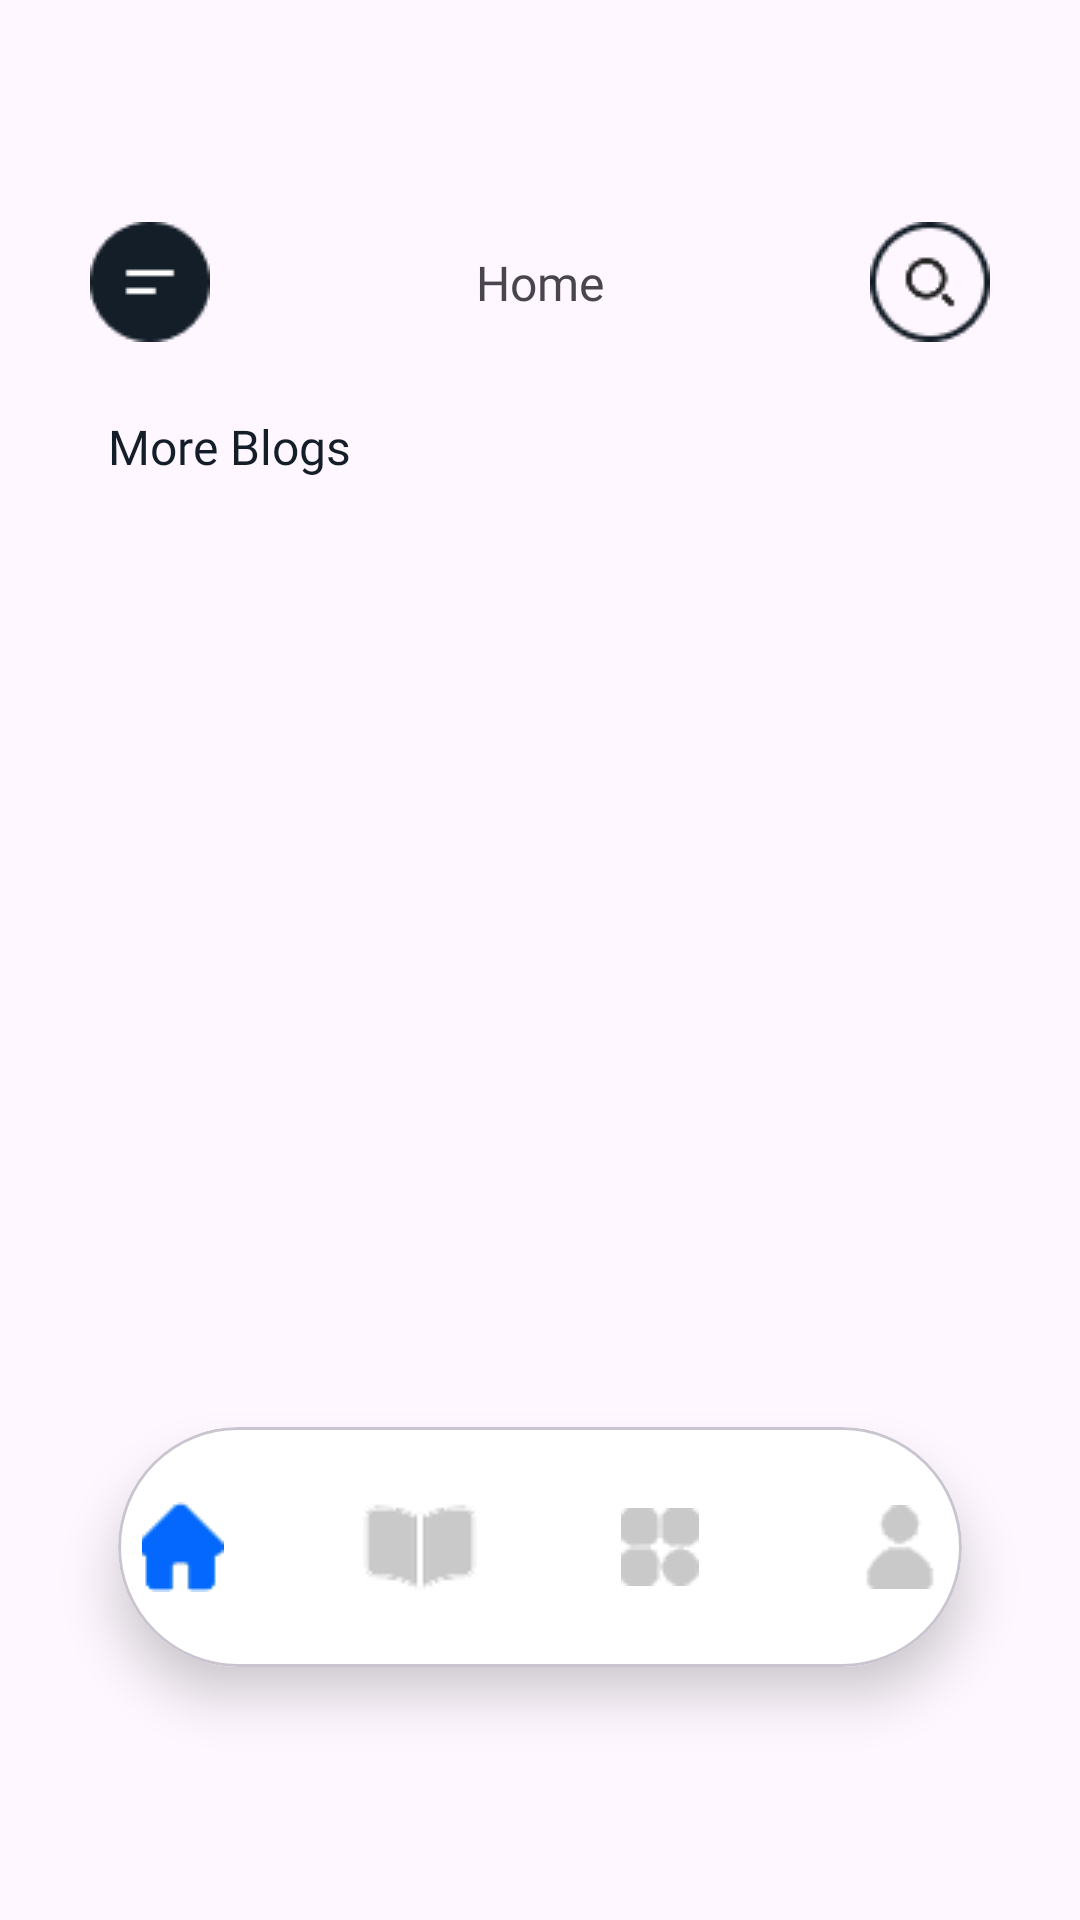

Where icons sit on this 1080×1920 app screen, as (x1, y1, x2, y2):
menu: (90, 222, 210, 342)
search: (870, 222, 990, 342)
